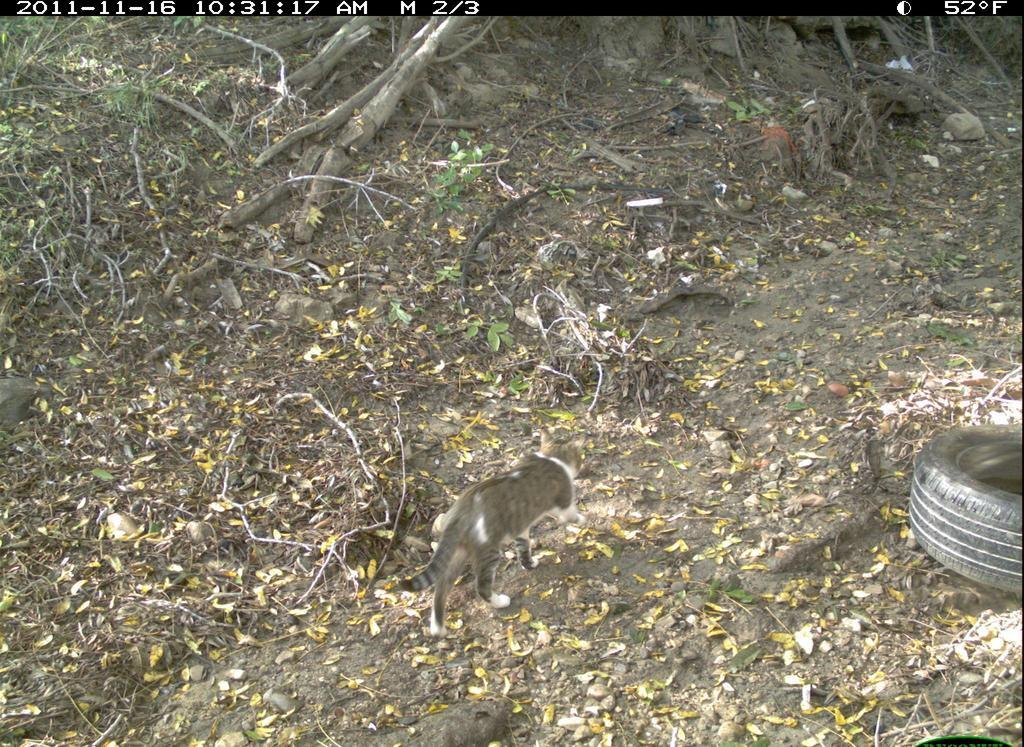cat: (396, 417, 600, 646)
